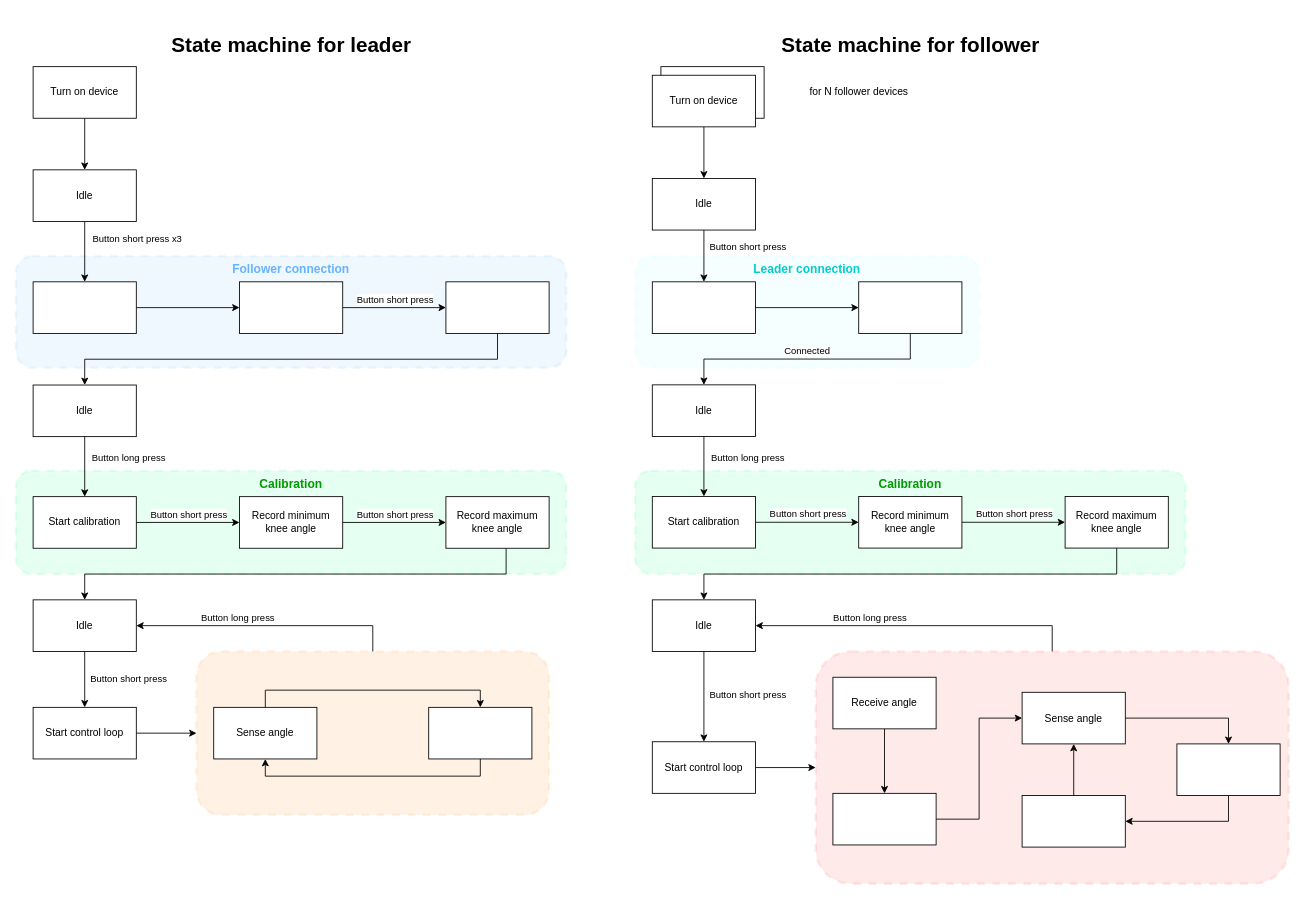
This 1305x900 diagram has some shape labels left out. Here are the shapes that lost their labels. From the top down, the box of each, then its label:
(32, 281, 136, 333): Mark device as leader
(239, 281, 343, 333): Wait for follower connections
(445, 281, 549, 333): Stop search
(651, 281, 756, 333): Start leader search
(858, 281, 962, 333): Search for leader
(195, 650, 550, 816): Leader control loop
(428, 706, 532, 759): Send angle
(814, 650, 1290, 885): Follower control loop
(1176, 743, 1280, 796): Compute motor command
(832, 792, 936, 845): Update motor setpoint
(1021, 795, 1125, 847): Send motor command
